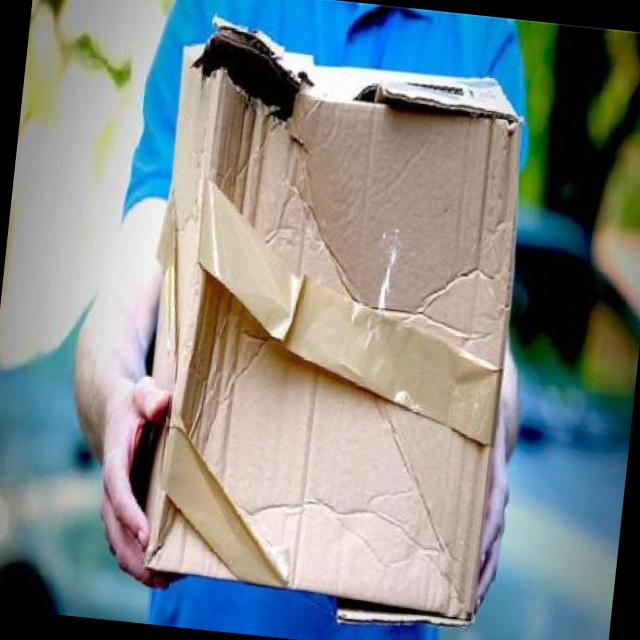box: (50, 0, 536, 588)
